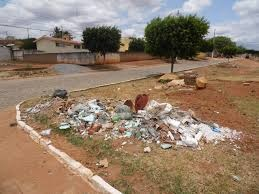rubble: (50, 96, 243, 149)
